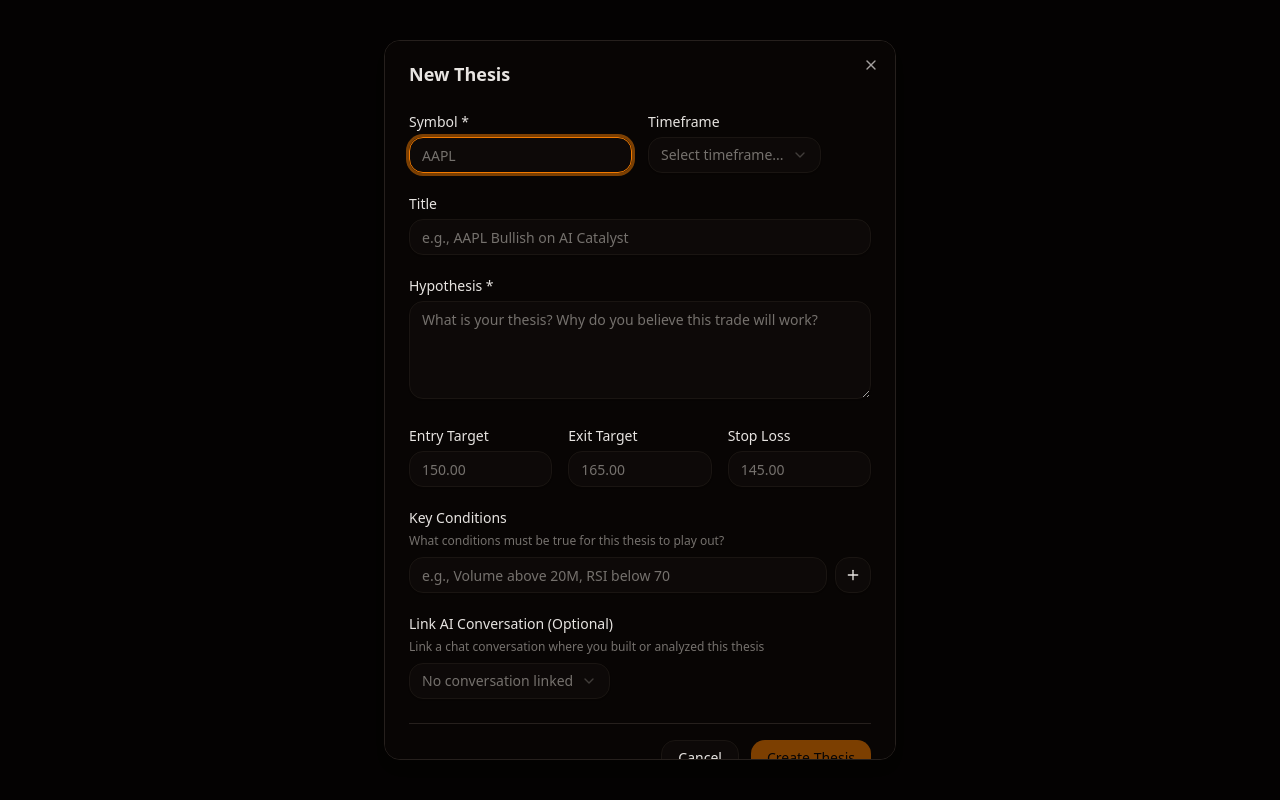
ThesisDialog › price targets › allows entering entry target
The image size is (1280, 800).
Type "150.50" into the number field labelled "Entry Target" at x=481, y=469, box [409,451,552,487]
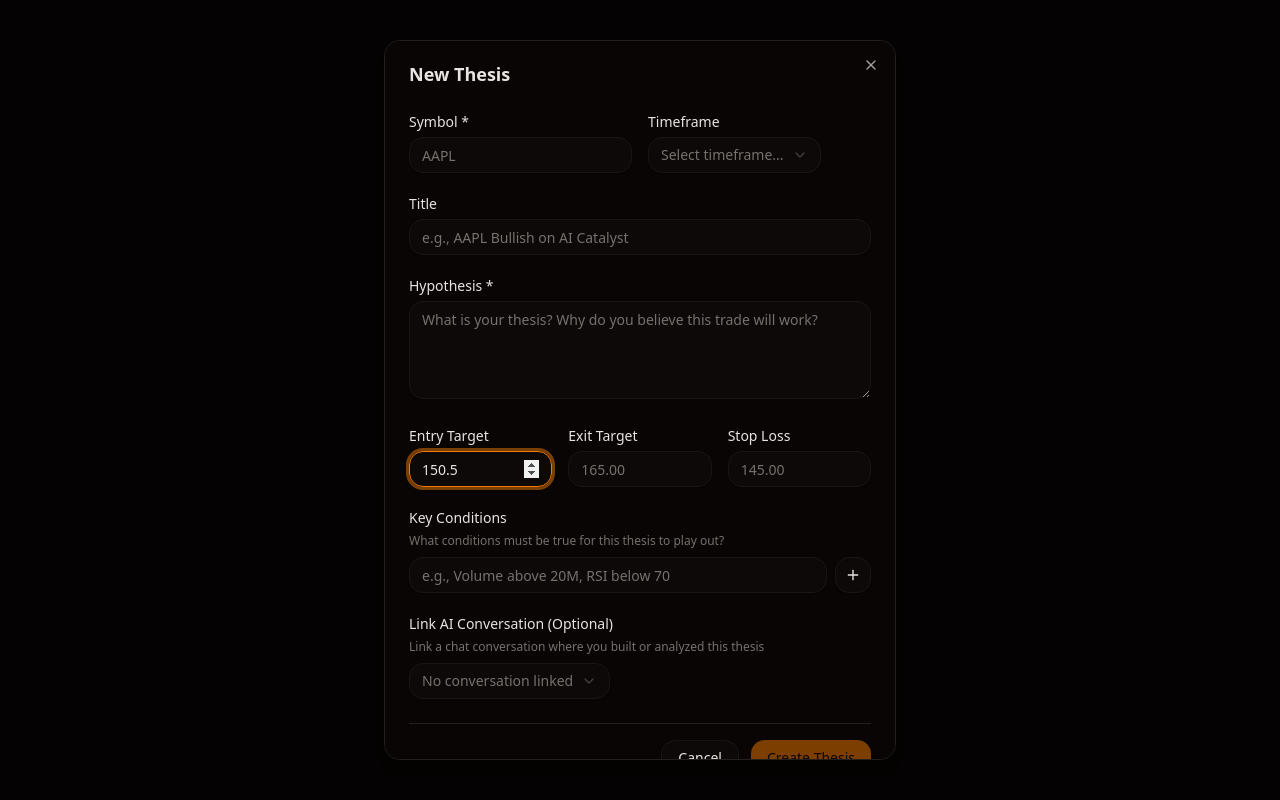
Result: the number field labelled "Entry Target" holds "150.5" at [409,451,552,487]
